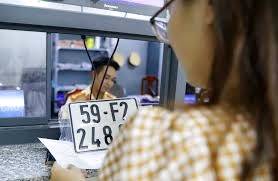Bien-so: (68, 93, 134, 151)
